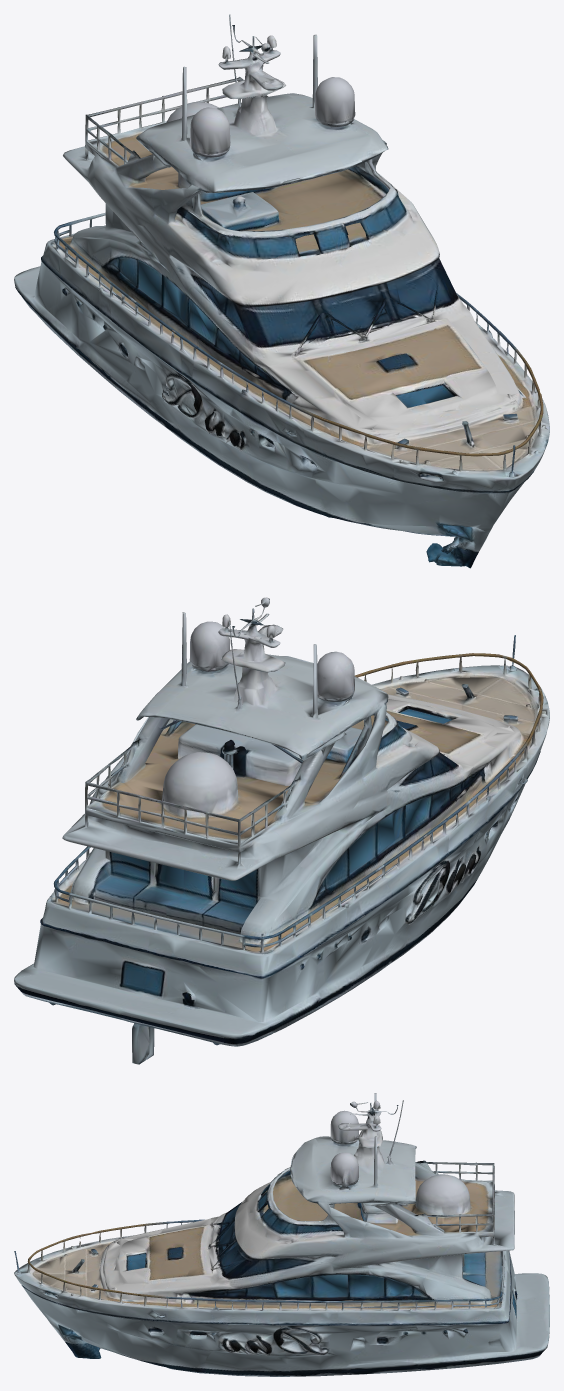
Rendered from yacht-one.glb.
3 renders of one model, top to bottom at view 1: azimuth 30°, elevation 25°; view 2: azimuth 150°, elevation 25°; view 3: azimuth 270°, elevation 25°, orthographic. The views are drawn at different scales.
Parts seen in each view (by area): view 1: tripo_node_40bd88b0-7223-4844-98bd-2be34997dbdc; view 2: tripo_node_40bd88b0-7223-4844-98bd-2be34997dbdc; view 3: tripo_node_40bd88b0-7223-4844-98bd-2be34997dbdc.
Part boxes in pixels (x1,y1,x2,y2): tripo_node_40bd88b0-7223-4844-98bd-2be34997dbdc: [14, 14, 549, 568]; tripo_node_40bd88b0-7223-4844-98bd-2be34997dbdc: [14, 597, 549, 1064]; tripo_node_40bd88b0-7223-4844-98bd-2be34997dbdc: [14, 1093, 549, 1376].
Bounding box in the file's own units: 0.3725 × 0.5228 × 0.9801.
Materials: 1 (1 with a texture image).
